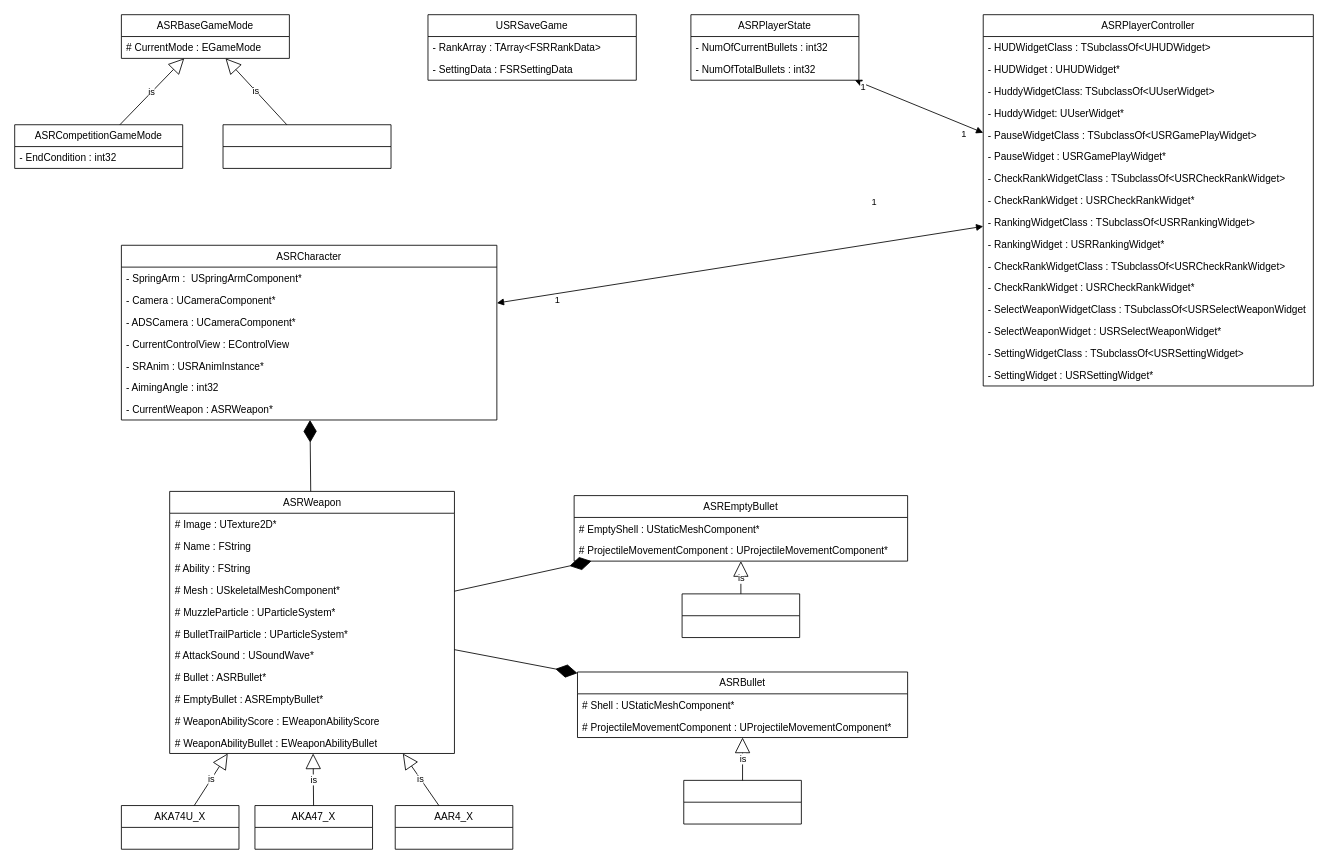
Image size: 1328x864. Some labels were removed from this diagram. Each missing label, with the centre of its shape:
ABullet762x39: (x=742, y=802)
AEmptyBullet762x39: (x=740, y=615)
ASRInfinityGameMode: (x=306, y=146)
